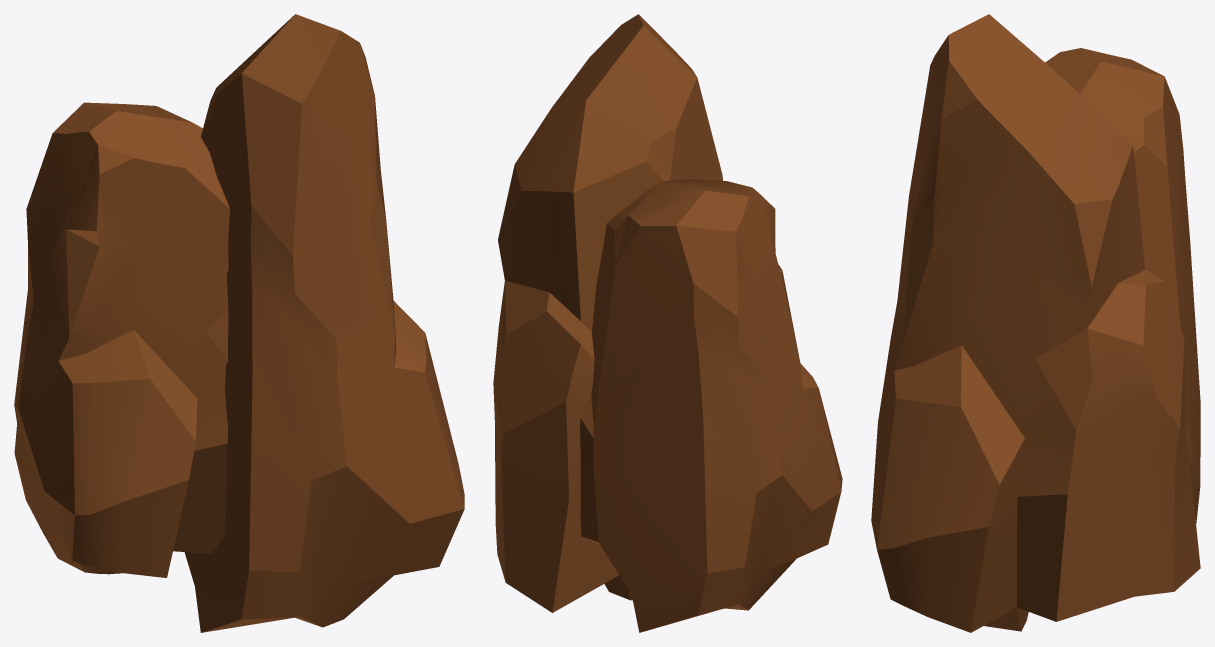
File: rock-4.glb
3 views of the same model, side by side, from view 1: azimuth 30°, elevation 25°; view 2: azimuth 150°, elevation 25°; view 3: azimuth 270°, elevation 25° (orthographic). The views are drawn at different scales.
Parts seen in each view (by area): view 1: Rock_4; view 2: Rock_4; view 3: Rock_4.
Part boxes in pixels (bbox=[...]): Rock_4: bbox=[14, 14, 464, 632]; Rock_4: bbox=[493, 14, 842, 632]; Rock_4: bbox=[871, 14, 1200, 632].
Size of the model in its own units: 2.16 by 3.46 by 1.7.
1 material, 1 textured.
